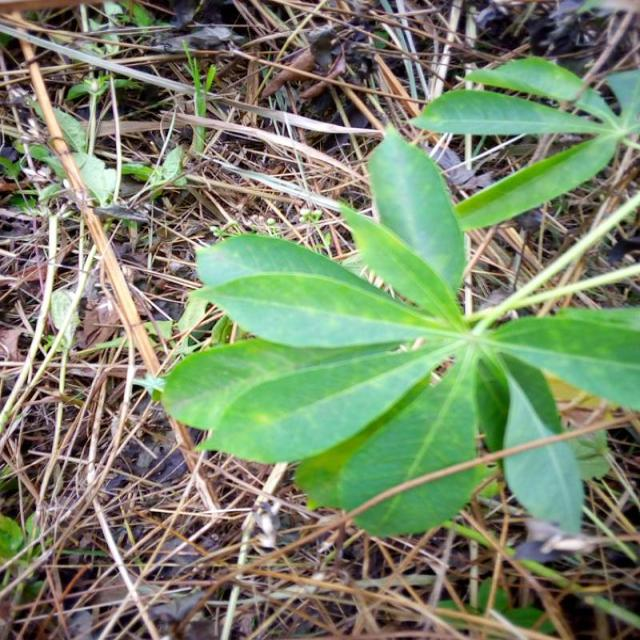cassava leaf: (144, 59, 638, 550)
